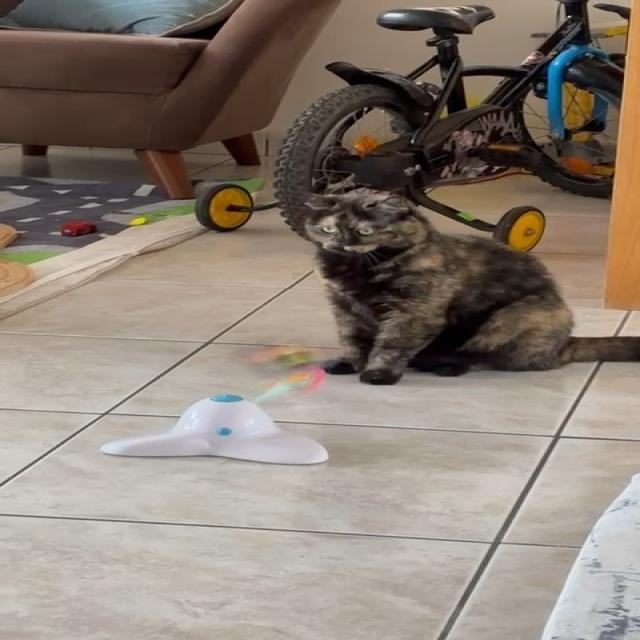authorized: (291, 187, 638, 385)
